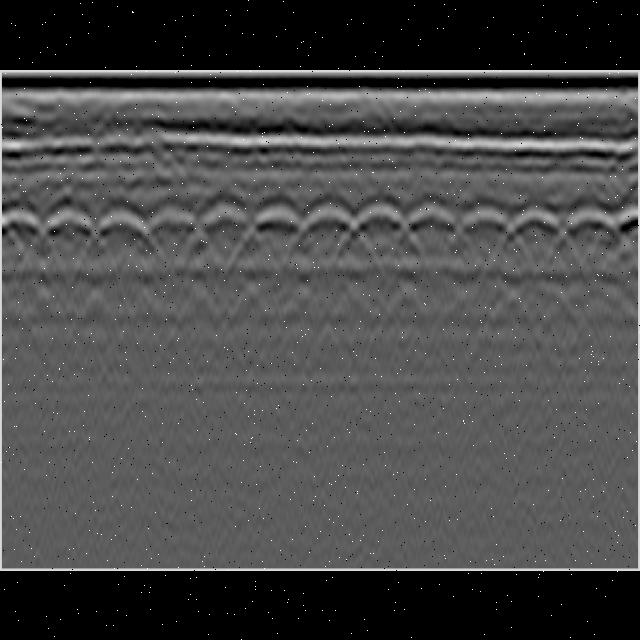hyperbola: (298, 192, 366, 262), (459, 200, 518, 262), (200, 200, 258, 252), (95, 200, 153, 252), (408, 197, 458, 257), (147, 200, 203, 252), (246, 202, 308, 246), (348, 200, 412, 238), (561, 204, 621, 242), (506, 203, 566, 239), (42, 202, 100, 238), (3, 202, 42, 255)
